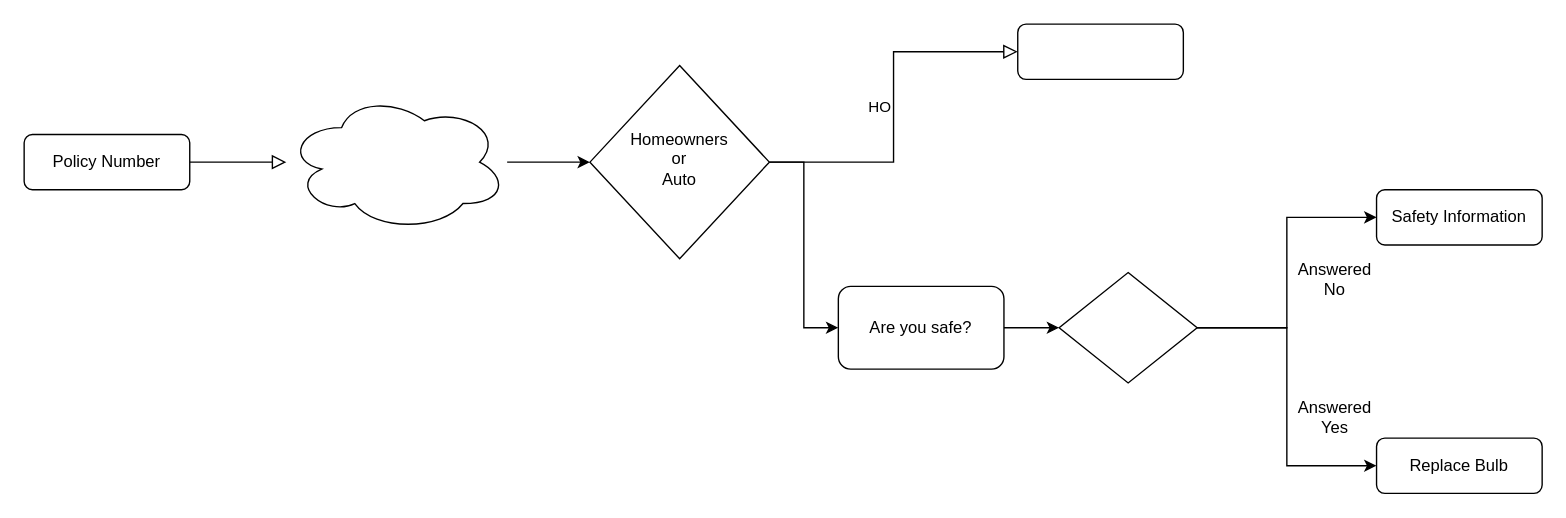
The diagram is 1566 pixels wide and 518 high, and some of its shapes have lost their labels. The shapes that lost their labels are listed below. From the top down, each one's box as (x1, y1, x2, y2) in pixels, then its label:
(1016, 23, 1183, 79): Type of Damage
(285, 92, 507, 231): Fetch Policy Details
